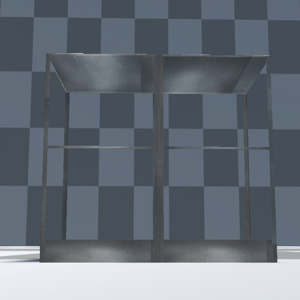Rack: (38, 52, 277, 263)
